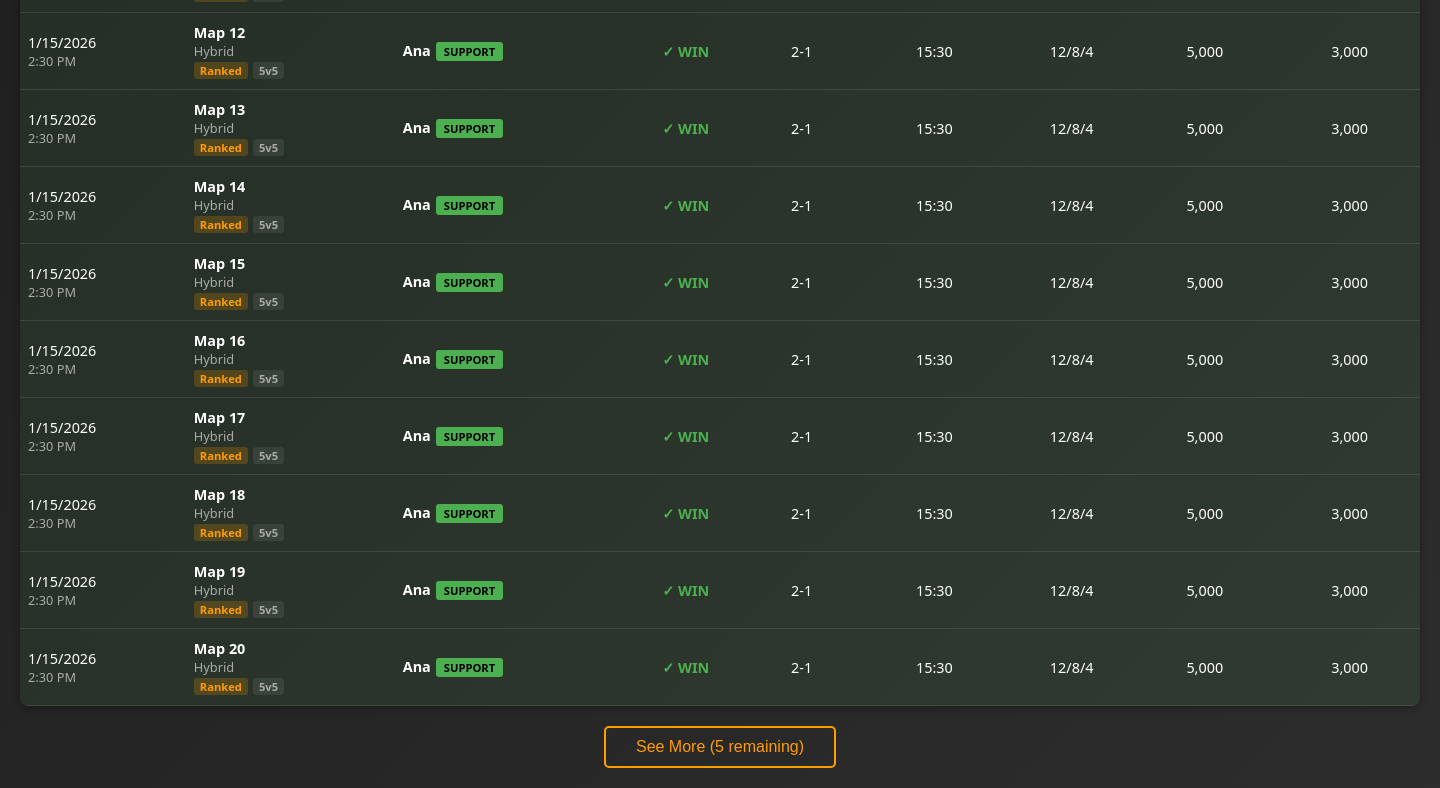
Test case: MatchHistory › paginates with See More button
(page scrolled)
Expected: the text "Map 21" is not shown
Step 1. Click the button "See More (5 remaining)" → coordinates (720, 747), box [604,726,836,768]
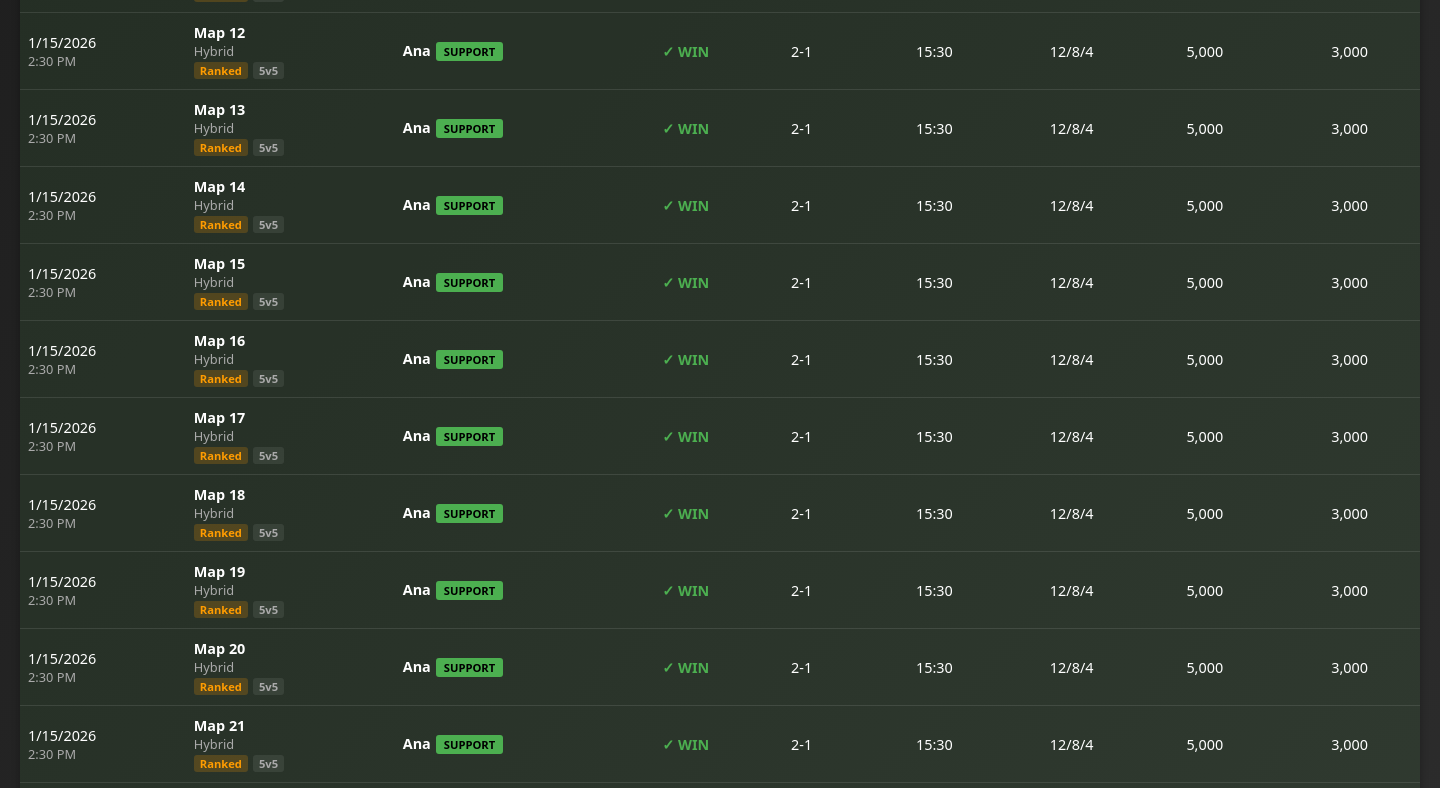
Now the text "Map 21" is shown, box [194,716,245,735]
